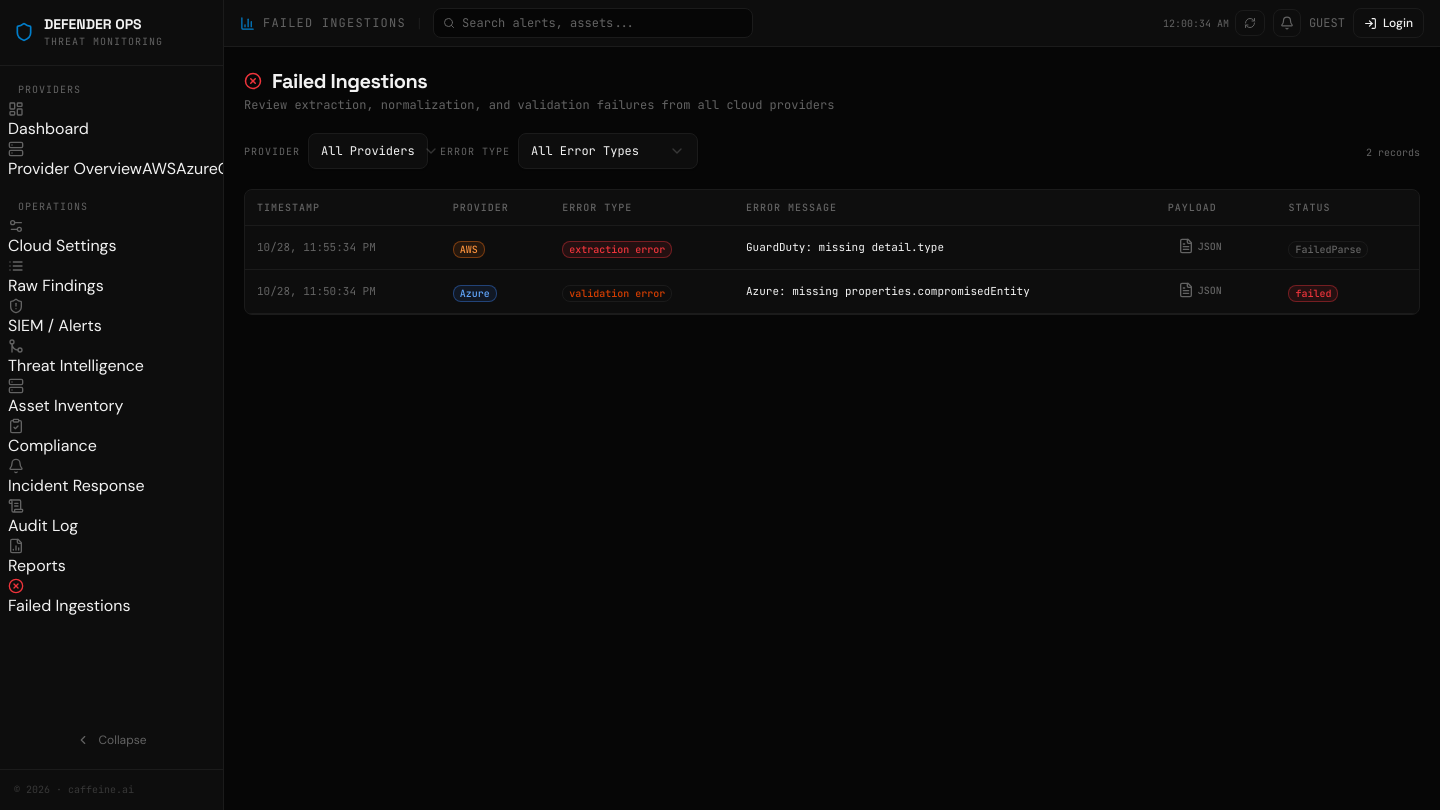
FailedIngestionPage (characterize) › opens the raw payload dialog when the JSON button is clicked
Click the button with test id "failed_ingestions\\.view_payload_button". click: point(1200, 246)
box: [1168,234,1232,258]
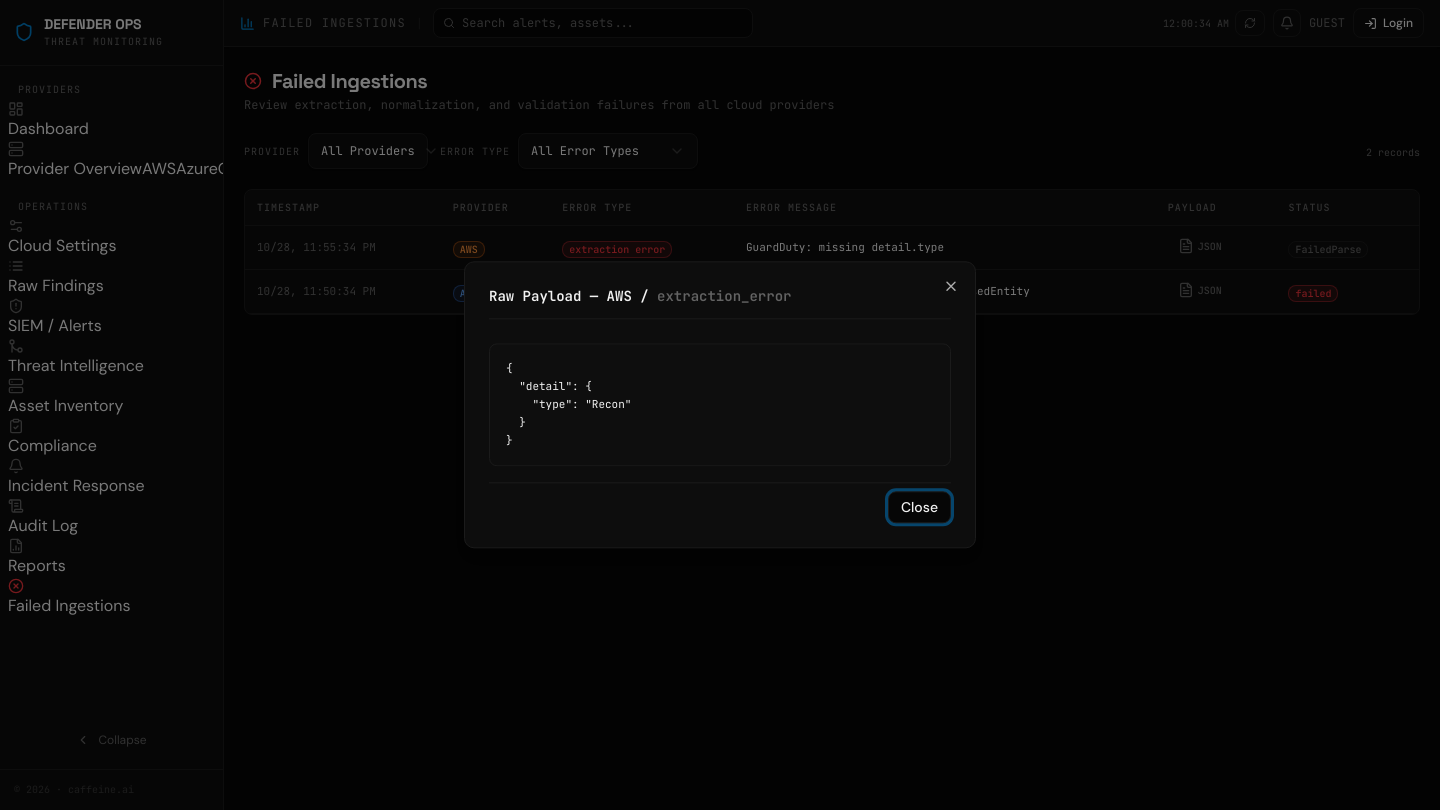
Result: the dialog with test id "failed_ingestions.payload.dialog" is shown at [464,261,976,549]
Result: the text "{ \"detail\": { \"type\": \"Recon\" } }" is shown at [489,343,951,467]
